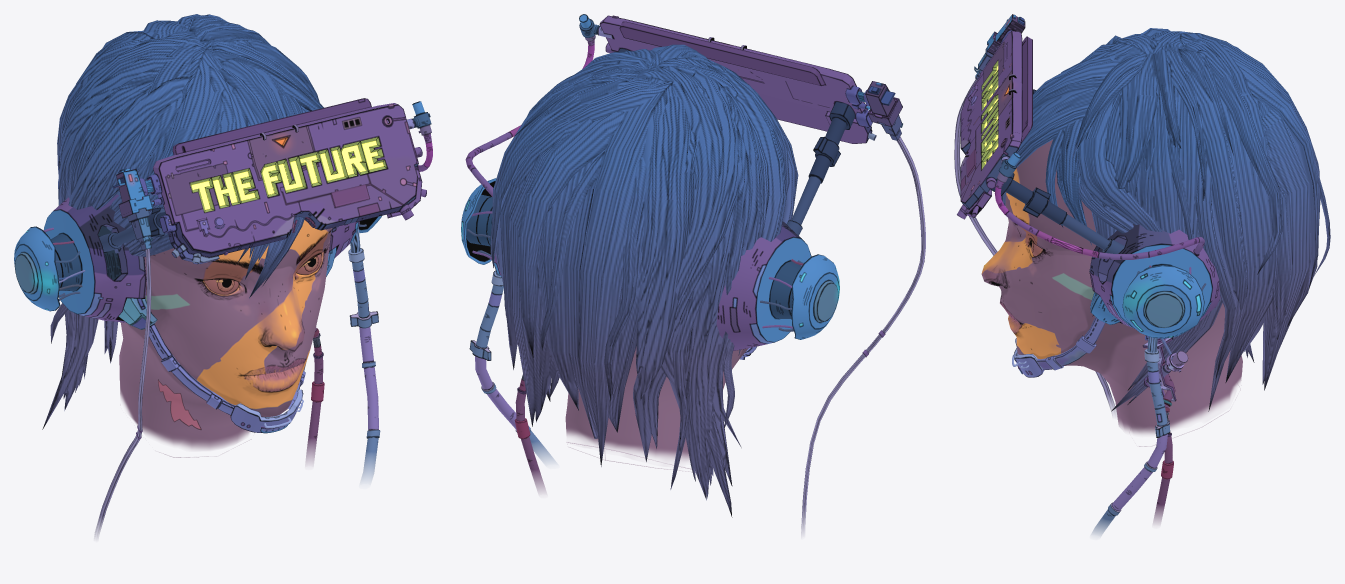
Rendered from future-transformed.glb.
3 renders of one model, left to right at view 1: azimuth 30°, elevation 25°; view 2: azimuth 150°, elevation 25°; view 3: azimuth 270°, elevation 25°, orthographic. The views are drawn at different scales.
Visible parts, largest first — view 1: Object_7, Object_3, Object_2, Object_8, Object_5, Object_4; view 2: Object_3, Object_7, Object_8, Object_4, Object_2; view 3: Object_3, Object_7, Object_2, Object_4, Object_8, Object_5.
Part boxes in pixels (x1,y1,x2,y2): Object_7: (14, 98, 432, 538); Object_3: (42, 14, 323, 429); Object_2: (117, 157, 332, 457); Object_8: (15, 104, 422, 482); Object_5: (189, 136, 387, 212); Object_4: (143, 15, 268, 280); Object_3: (490, 44, 798, 517); Object_7: (461, 14, 925, 535); Object_8: (467, 18, 902, 493); Object_4: (517, 55, 704, 357); Object_2: (565, 346, 748, 471); Object_3: (1001, 28, 1330, 411); Object_7: (954, 14, 1220, 437); Object_2: (981, 139, 1242, 446); Object_4: (1033, 36, 1319, 411); Object_8: (964, 14, 1206, 536); Object_5: (981, 60, 998, 169).
Size of the model in its own units: 18.02 by 24.55 by 17.51.
Materials: 4 (4 with a texture image).
